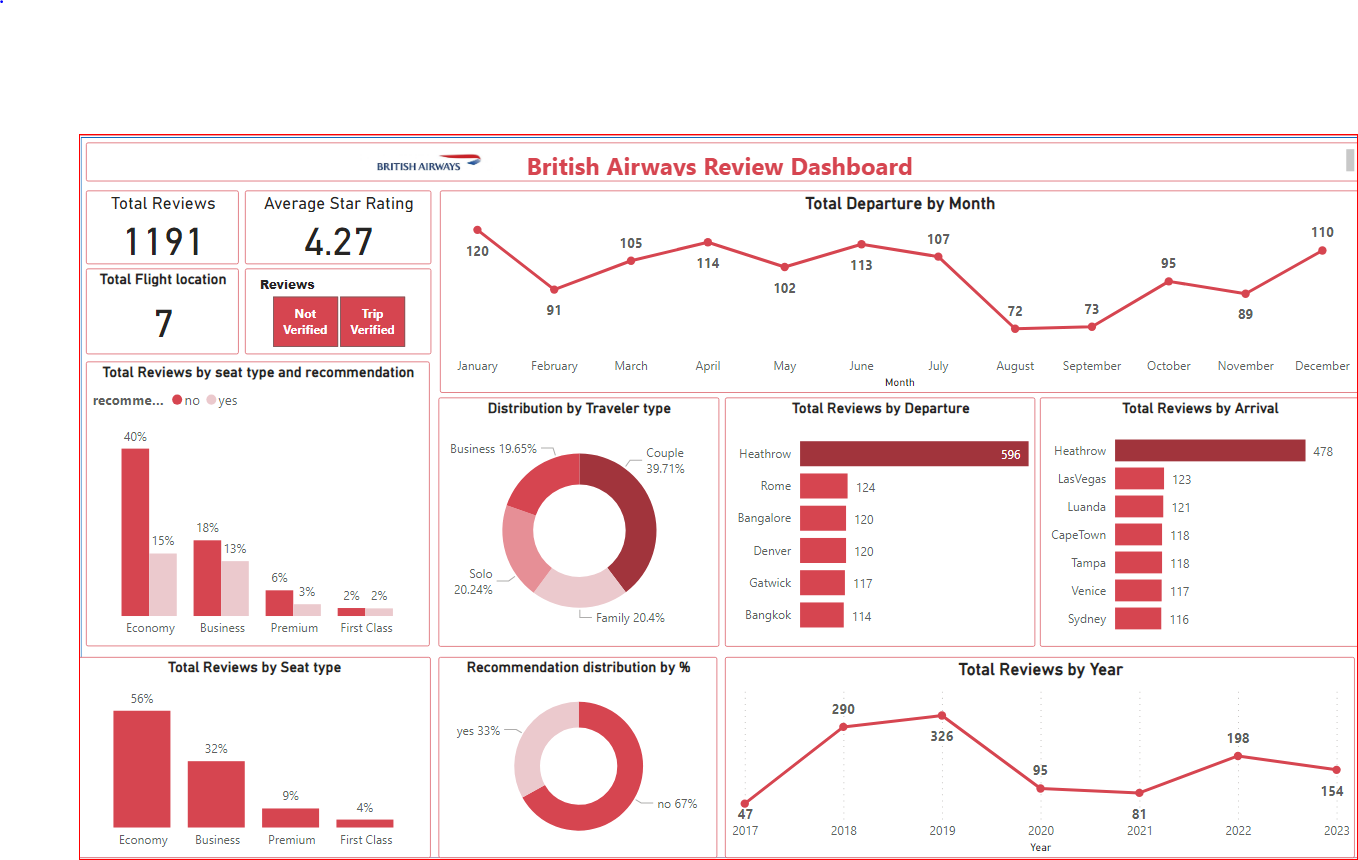

Layout of this report page (visuals, bound fields, positions):
{"tool":"powerbi","page":{"name":"Dashboard","canvas":[1280,720],"ordinal":3},"visuals":[{"type":"shape","box":[1.5,0,1279.1,719.4],"z":0},{"type":"textbox","box":[9,7.5,1267.2,38.8],"z":1000},{"type":"lineChart","title":"Total Departure by Month","fields":{"Category":["British_Airway_Review.date.Variation.Date Hierarchy.Month"],"Y":["CountNonNull(British_Airway_Review.Departure)"]},"box":[361.2,55.2,914.9,201.5],"z":2000},{"type":"lineChart","title":"Total Reviews by Year","fields":{"Category":["British_Airway_Review.date.Variation.Date Hierarchy.Year"],"Y":["CountNonNull(British_Airway_Review.Reviews)"]},"box":[644.8,519.4,626.9,200],"z":3000},{"type":"barChart","title":"Total Reviews by Departure","fields":{"Category":["British_Airway_Review.Departure"],"Y":["CountNonNull(British_Airway_Review.Reviews)"]},"box":[644.8,261.2,309,247.8],"z":4000},{"type":"barChart","title":"Total Reviews by Arrival","fields":{"Category":["British_Airway_Review.Arrival"],"Y":["CountNonNull(British_Airway_Review.Reviews)"]},"box":[958.2,261.2,317.9,247.8],"z":5000},{"type":"donutChart","title":"Distribution by Traveler type","fields":{"Category":["British_Airway_Review.type_of_traveller"],"Y":["CountNonNull(British_Airway_Review.type_of_traveller)"]},"box":[359.7,261.2,279.1,247.8],"z":6000},{"type":"donutChart","title":"Recommendation distribution by %","fields":{"Category":["British_Airway_Review.recommended"],"Y":["CountNonNull(British_Airway_Review.recommended)"]},"box":[359.7,519.4,277.6,200],"z":7000},{"type":"clusteredColumnChart","title":"Total Reviews by seat type and recommendation","fields":{"Category":["British_Airway_Review.seat_type"],"Y":["CountNonNull(British_Airway_Review.seat_type)"],"Series":["British_Airway_Review.recommended"]},"box":[9,225.4,341.8,283.6],"z":8000},{"type":"card","title":"Total Reviews","fields":{"Values":["CountNonNull(British_Airway_Review.Reviews)"]},"box":[9,55.2,152.2,73.1],"z":9000},{"type":"card","title":"Average Star Rating","fields":{"Values":["Avg(British_Airway_Review.stars)"]},"box":[167.2,55.2,185.1,73.1],"z":10000},{"type":"card","title":"Total Flight location","fields":{"Values":["Count(British_Airway_Review.Arrival)"]},"box":[9,132.8,152.2,85.1],"z":11000},{"type":"slicer","fields":{"Values":["British_Airway_Review.Reviews"]},"box":[167.2,132.8,185.1,85.1],"z":12000},{"type":"clusteredColumnChart","title":"Total Reviews by Seat type","fields":{"Category":["British_Airway_Review.seat_type"],"Y":["CountNonNull(British_Airway_Review.seat_type)"]},"box":[0,519.4,352.2,200],"z":13000},{"type":"image","box":[274.6,13.4,150.7,26.9],"z":13001}]}

Visuals, with their boxes on the page's 1280x720 design canvas (x1, y1, x2, y2). These are canvas units, not pixel positions in the 1358x860 screenshot, which may show the page scaled, cropped or inside an application window:
shape: rect(2, 0, 1281, 719)
textbox: rect(9, 8, 1276, 46)
"Total Departure by Month" lineChart: rect(361, 55, 1276, 257)
"Total Reviews by Year" lineChart: rect(645, 519, 1272, 719)
"Total Reviews by Departure" barChart: rect(645, 261, 954, 509)
"Total Reviews by Arrival" barChart: rect(958, 261, 1276, 509)
"Distribution by Traveler type" donutChart: rect(360, 261, 639, 509)
"Recommendation distribution by %" donutChart: rect(360, 519, 637, 719)
"Total Reviews by seat type and recommendation" clusteredColumnChart: rect(9, 225, 351, 509)
"Total Reviews" card: rect(9, 55, 161, 128)
"Average Star Rating" card: rect(167, 55, 352, 128)
"Total Flight location" card: rect(9, 133, 161, 218)
slicer - British_Airway_Review.Reviews: rect(167, 133, 352, 218)
"Total Reviews by Seat type" clusteredColumnChart: rect(0, 519, 352, 719)
image: rect(275, 13, 425, 40)
